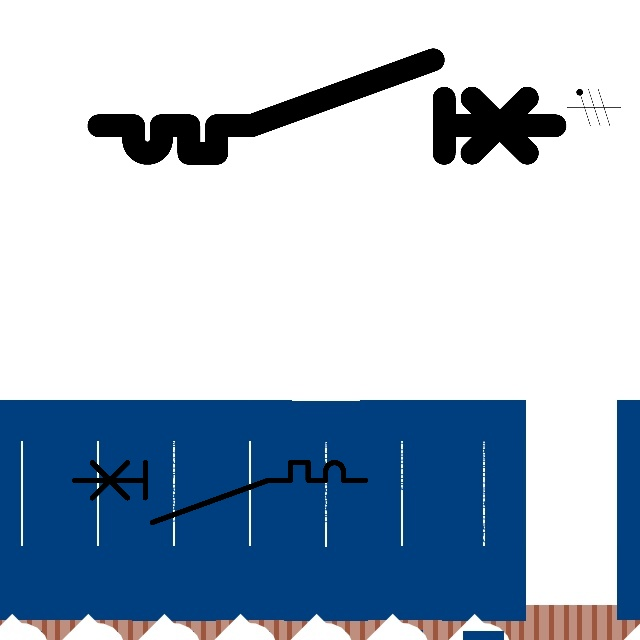interruptor_termomagnetico: (87, 48, 567, 165), (67, 455, 373, 530)
